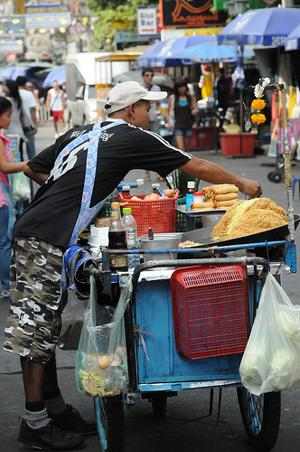person: (11, 80, 263, 447)
